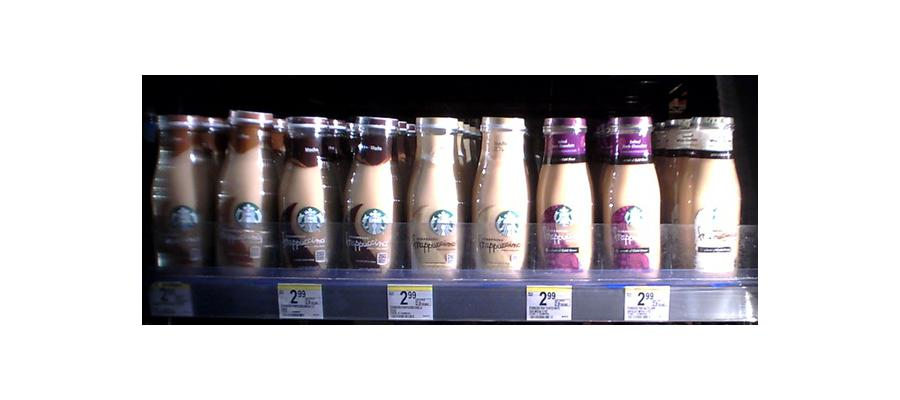bottle: (663, 125, 744, 278), (146, 106, 216, 273), (404, 115, 470, 278), (601, 109, 663, 279), (536, 115, 599, 279), (274, 111, 336, 277), (214, 109, 275, 275), (339, 119, 402, 277), (472, 117, 533, 279)
